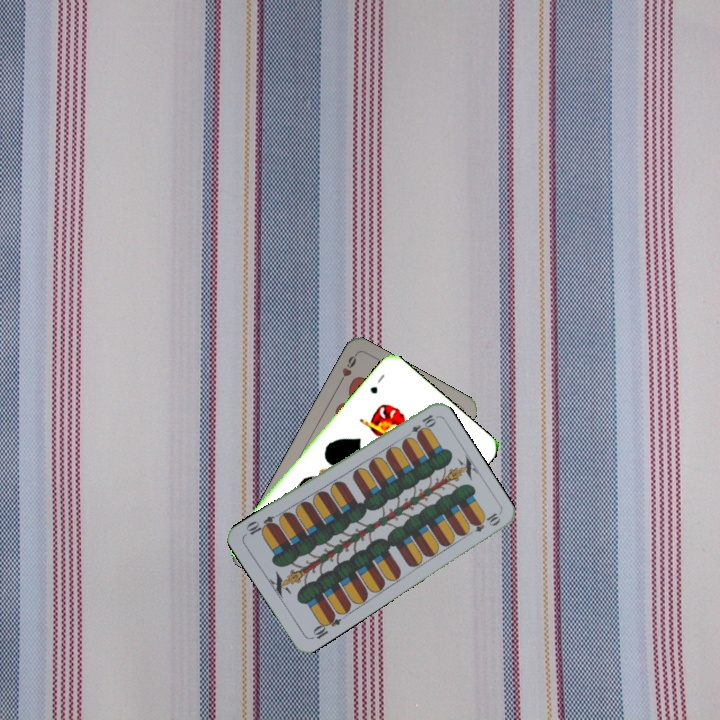E10: (307, 609, 344, 642), (401, 410, 438, 441)
GU: (366, 370, 387, 396)
H9: (334, 350, 359, 388)
